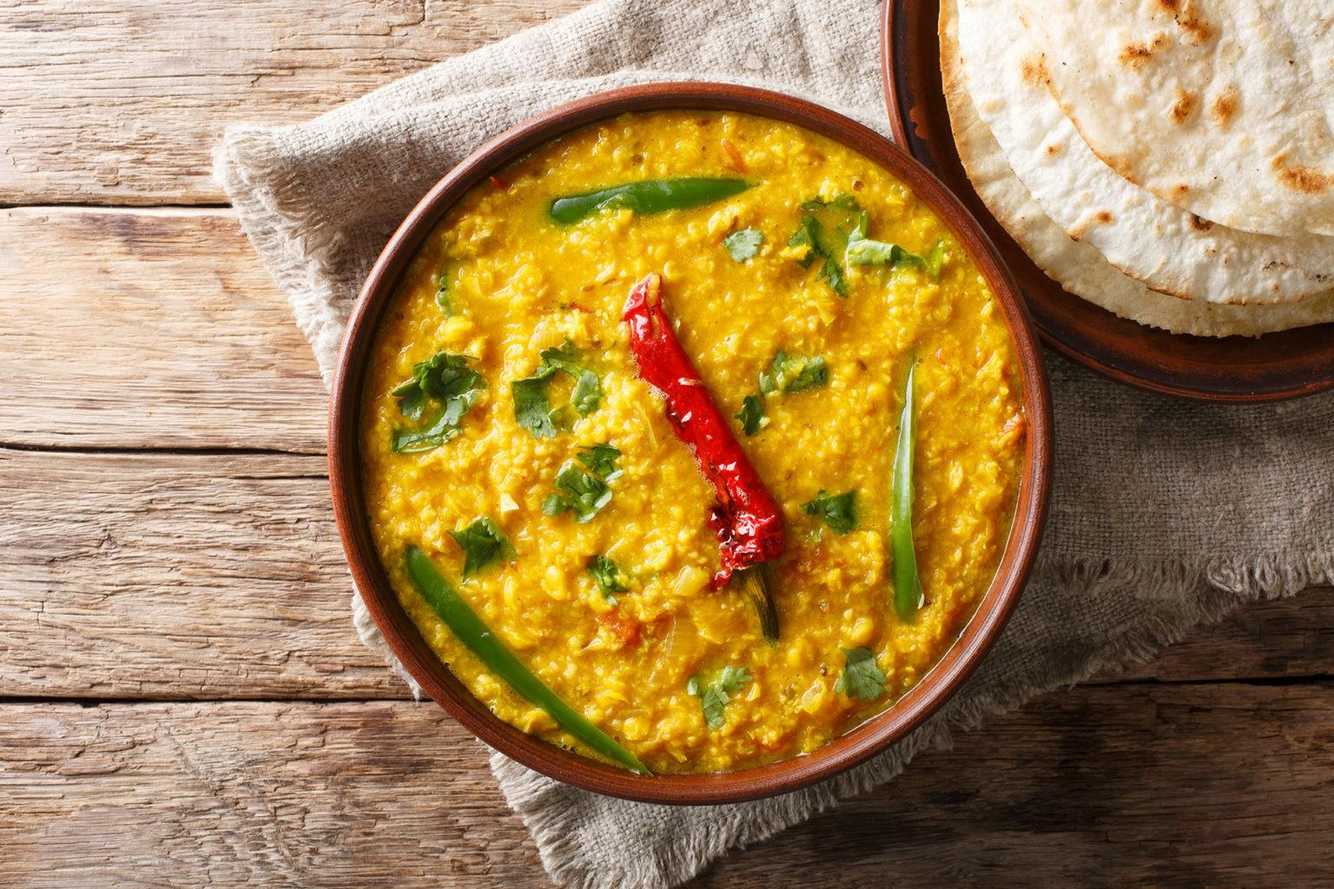Dal: (369, 111, 1014, 777)
